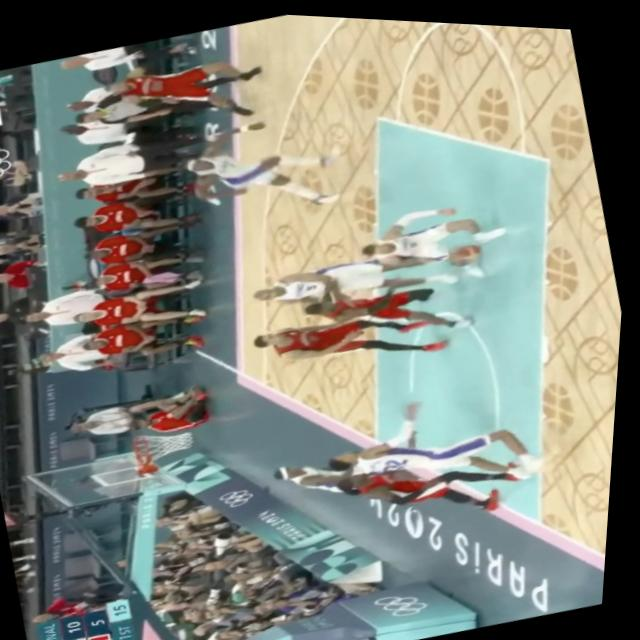ball_handler: (355, 202, 505, 284)
